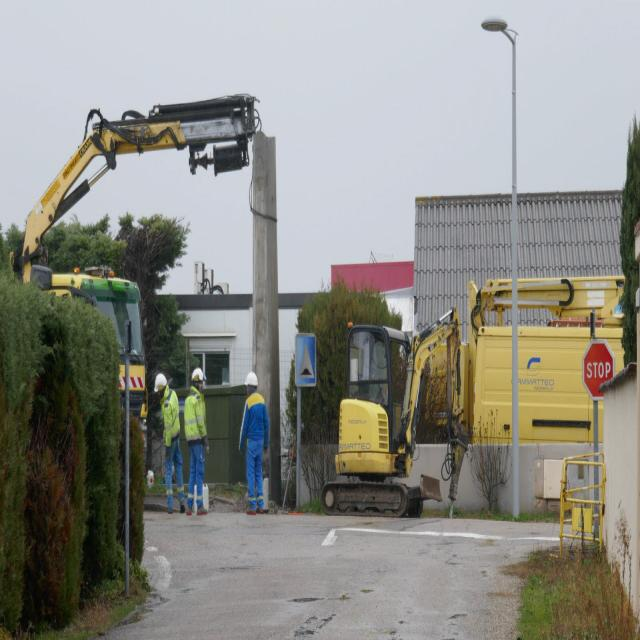Electric pole: (482, 15, 520, 518)
